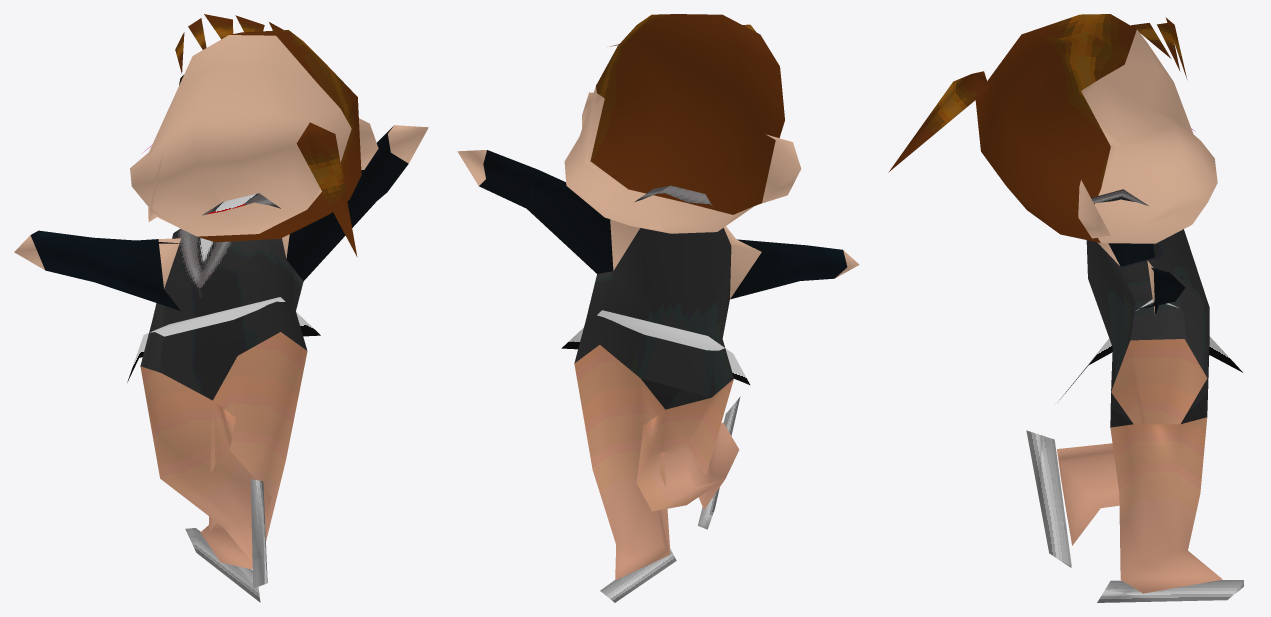
Rendered from ps2_save-icons_espniws2002.glb.
3 renders of one model, left to right at view 1: azimuth 30°, elevation 25°; view 2: azimuth 150°, elevation 25°; view 3: azimuth 270°, elevation 25°, orthographic. The views are drawn at different scales.
Visible parts, largest first — view 1: icon_n.ico; view 2: icon_n.ico; view 3: icon_n.ico.
Part boxes in pixels (x1,y1,x2,y2): icon_n.ico: (14,14,428,602); icon_n.ico: (457,14,859,602); icon_n.ico: (888,14,1243,602).
Size of the model in its own units: 2.9 by 3.75 by 2.19.
Materials: 1 (1 with a texture image).
